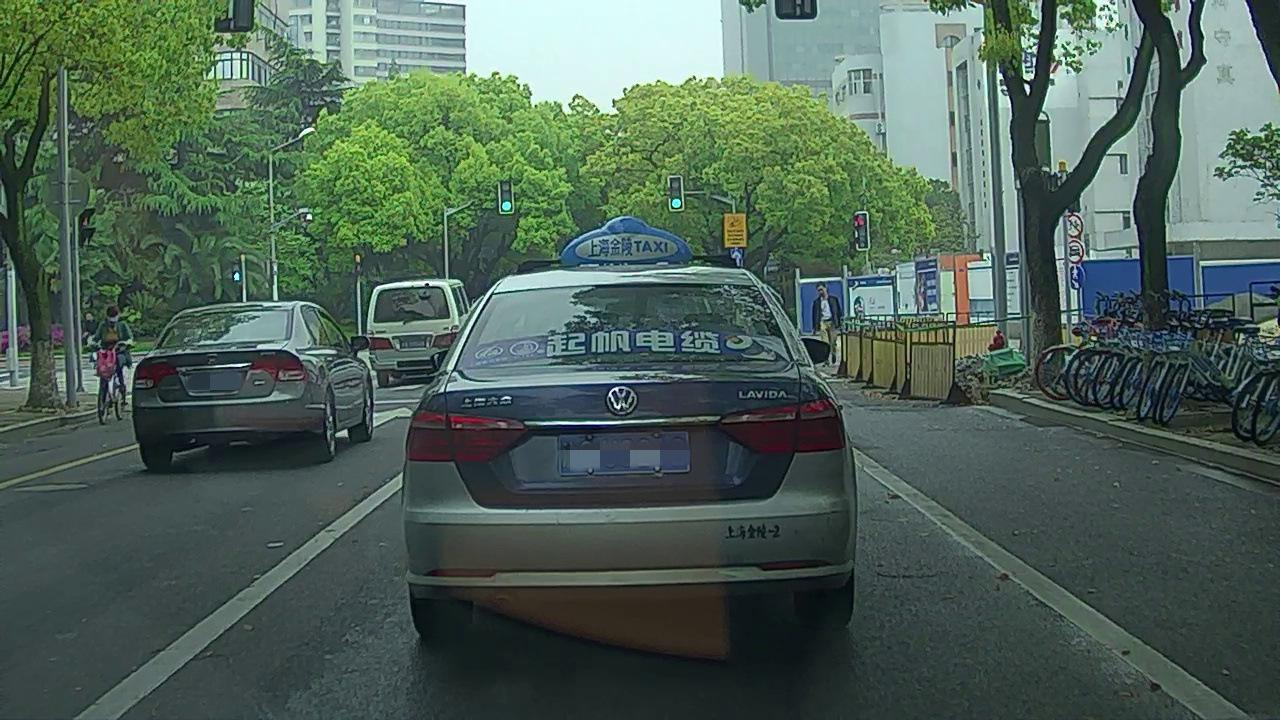traffic_light: (498, 179, 513, 211), (670, 176, 682, 209)
